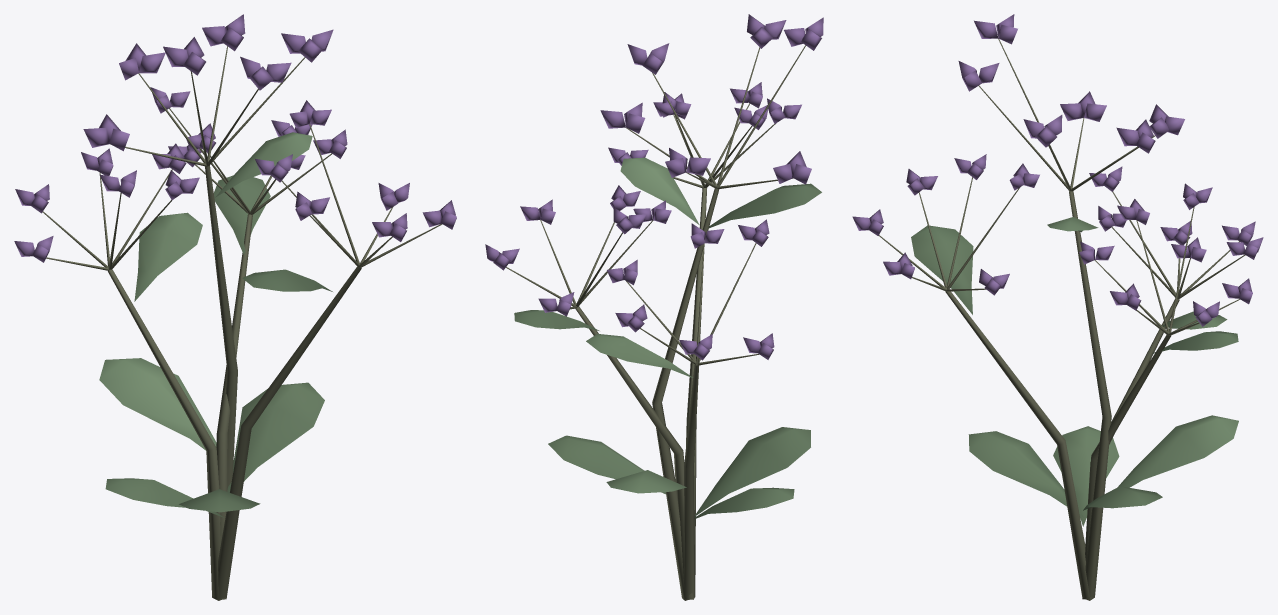
The model's file is sea_lavender.glb.
3 renders of one model, left to right at view 1: azimuth 30°, elevation 25°; view 2: azimuth 150°, elevation 25°; view 3: azimuth 270°, elevation 25°, orthographic. The views are drawn at different scales.
Visible parts, largest first — view 1: sea_lavender; view 2: sea_lavender; view 3: sea_lavender.
Part boxes in pixels (x1=…): sea_lavender: x1=14, y1=14, x2=456, y2=600; sea_lavender: x1=485, y1=14, x2=823, y2=600; sea_lavender: x1=852, y1=14, x2=1263, y2=600.
Size of the model in its own units: 0.3348 by 0.6345 by 0.4369.
